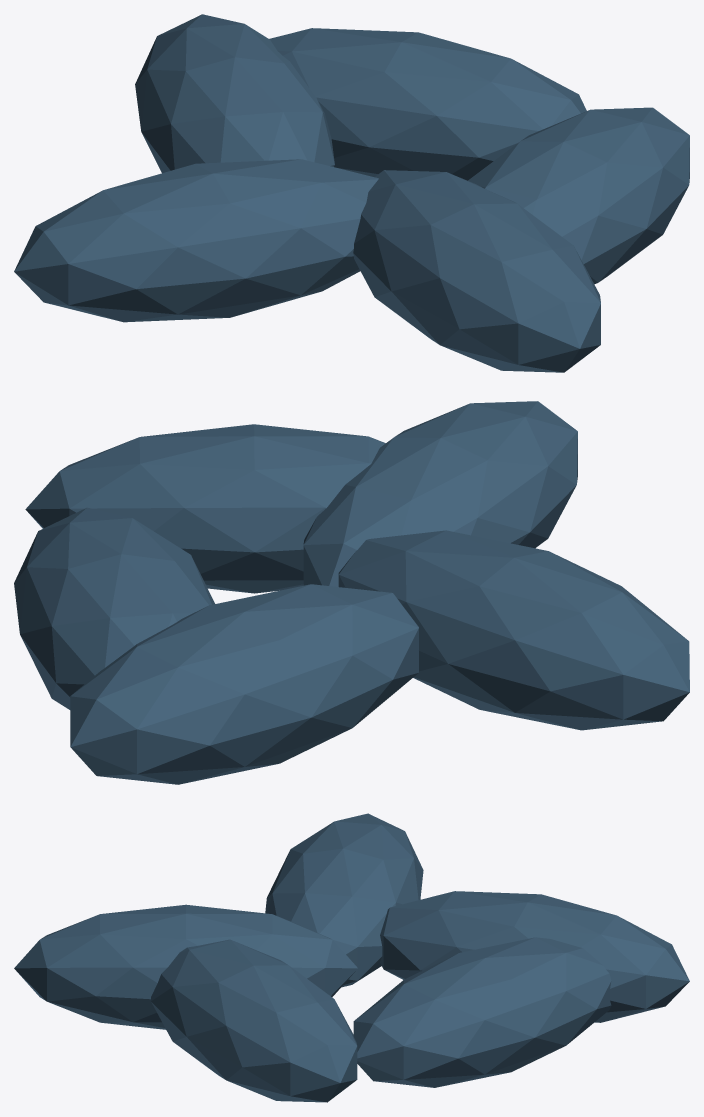
The model's file is harbor-and-tackle-mussel-cluster-93ebce6c__19592.glb.
3 renders of one model, top to bottom at view 1: azimuth 30°, elevation 25°; view 2: azimuth 150°, elevation 25°; view 3: azimuth 270°, elevation 25°, orthographic. The views are drawn at different scales.
Visible parts, largest first — view 1: navy; view 2: navy; view 3: navy.
Boxes of the visible parts, left/top/right/bottom form: navy: left=14, top=14, right=689, bottom=372; navy: left=14, top=401, right=689, bottom=784; navy: left=14, top=813, right=689, bottom=1102.
Bounding box in the file's own units: 0.346 × 0.07 × 0.3927.
